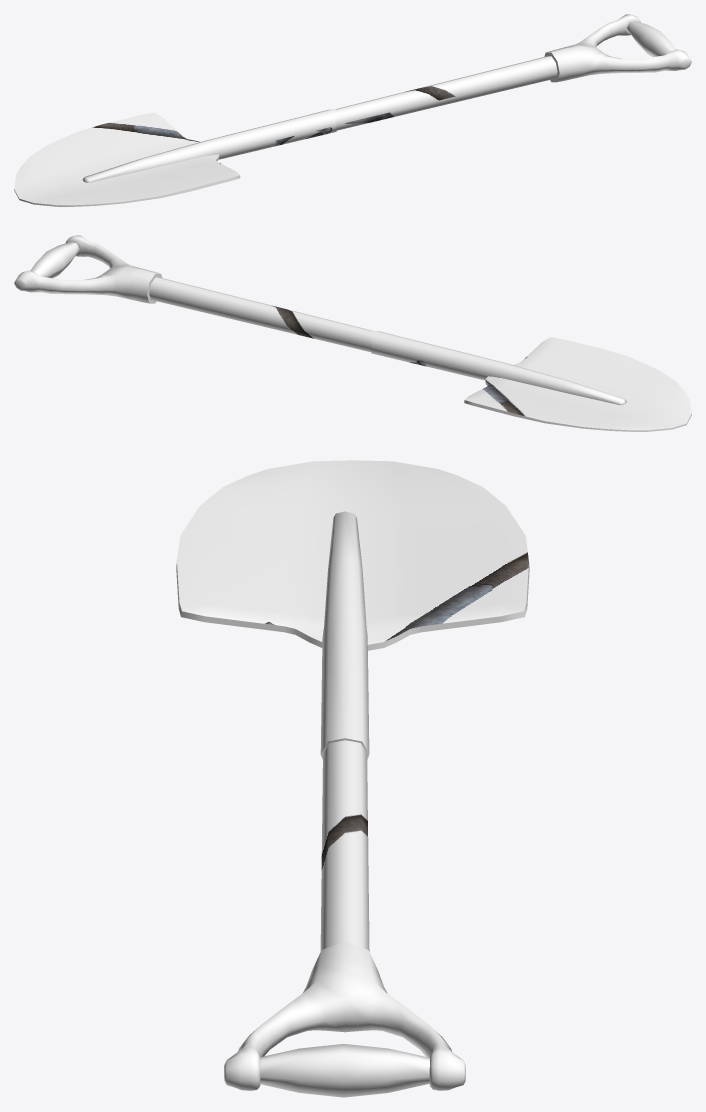
File: Shovel_(Quest).fbx
The picture shows the model from 3 angles, top to bottom: view 1: azimuth 30°, elevation 25°; view 2: azimuth 150°, elevation 25°; view 3: azimuth 270°, elevation 25°; orthographic projection. The views are drawn at different scales.
Parts seen in each view (by area): view 1: Cylinder.028; view 2: Cylinder.028; view 3: Cylinder.028.
Boxes of the visible parts, x1,y1,x2,y2 form: Cylinder.028: [14, 14, 691, 206]; Cylinder.028: [14, 235, 691, 431]; Cylinder.028: [176, 460, 529, 1097].
Size of the model in its own units: 1004 by 44.95 by 239.
